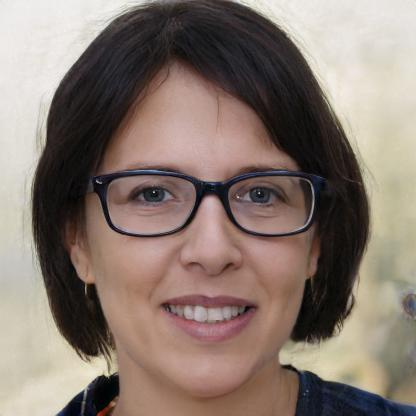glasses: (90, 168, 316, 242)
